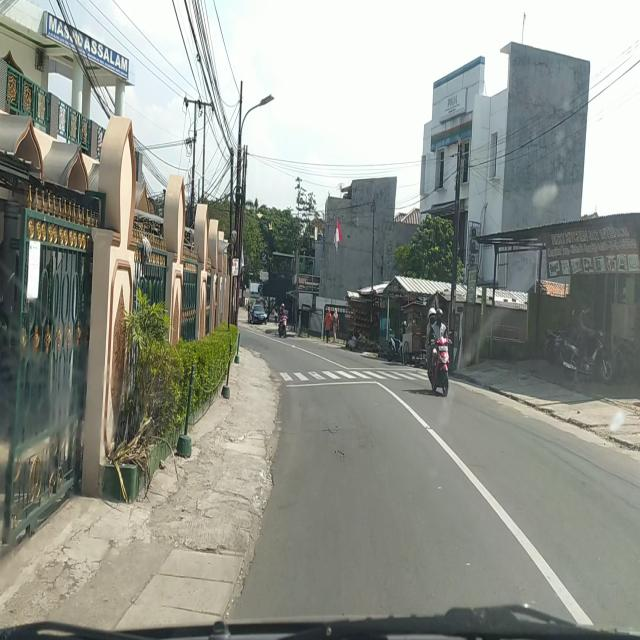Drain Hole: (322, 424, 341, 437), (334, 446, 347, 462)
